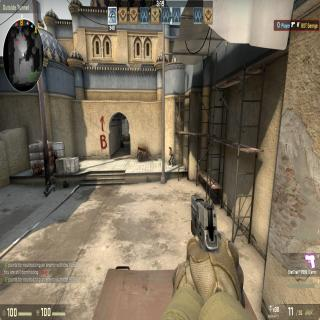T-Body: (168, 146, 174, 166)
T-Head: (169, 146, 172, 151)
